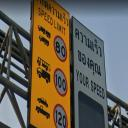speed_limit_100: (54, 66, 68, 99)
speed_limit_120: (51, 100, 69, 128)
speed_limit_80: (53, 34, 68, 64)
